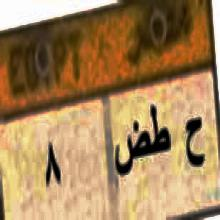7aa: (183, 106, 205, 173)
8: (42, 136, 63, 190)
Taa: (148, 103, 171, 157)
daad: (113, 118, 149, 177)
